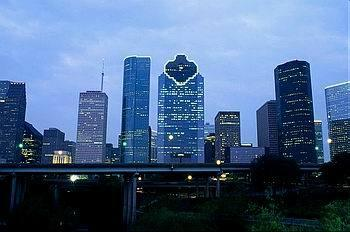building: (157, 54, 204, 163), (275, 60, 316, 166), (77, 58, 108, 164), (122, 56, 152, 164), (0, 80, 27, 164), (324, 80, 350, 164), (214, 110, 241, 163), (256, 100, 278, 158)
